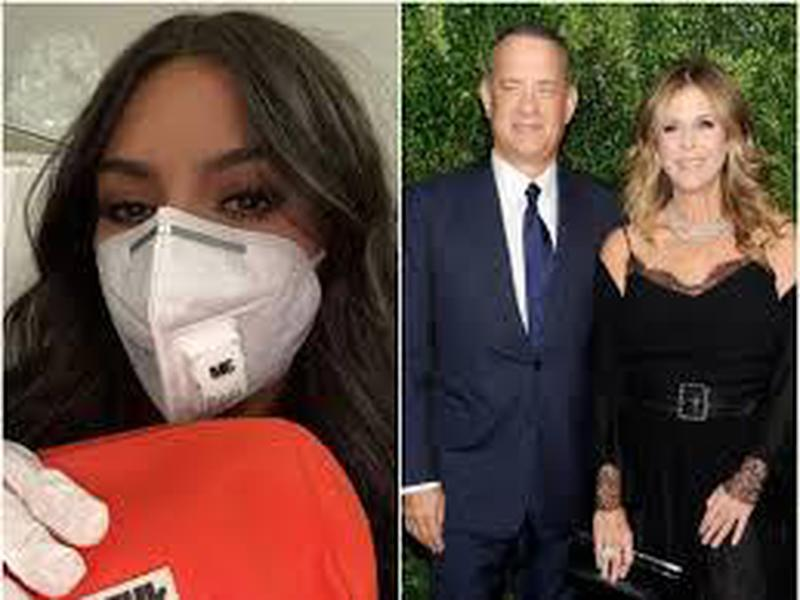with_mask: (88, 62, 335, 419)
without_mask: (491, 38, 564, 163), (657, 85, 727, 192)
